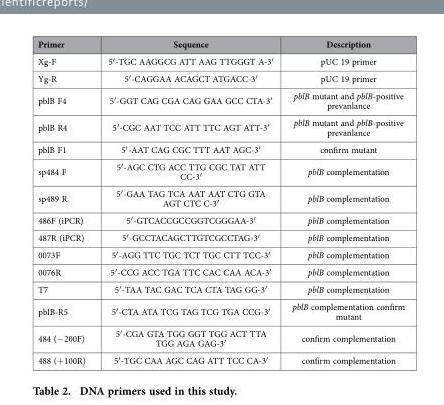table: (37, 37, 404, 365)
table column: (96, 37, 282, 365), (282, 37, 404, 365), (37, 37, 96, 365)
table column header: (37, 37, 404, 52)
table row: (37, 86, 404, 113), (37, 113, 404, 140), (37, 157, 404, 184), (37, 184, 404, 211), (37, 297, 404, 324), (37, 324, 404, 351), (37, 245, 404, 263), (37, 52, 404, 69), (37, 69, 404, 86), (37, 140, 404, 157), (37, 211, 404, 228), (37, 228, 404, 245), (37, 263, 404, 280), (37, 280, 404, 297), (37, 37, 404, 52), (37, 351, 404, 365)
